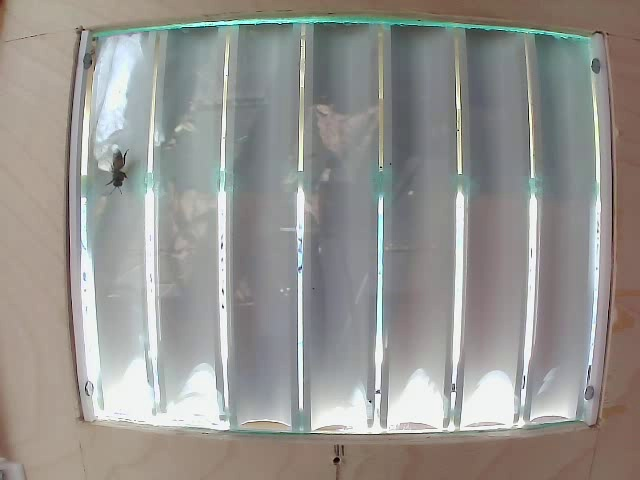bee: (95, 141, 152, 192)
